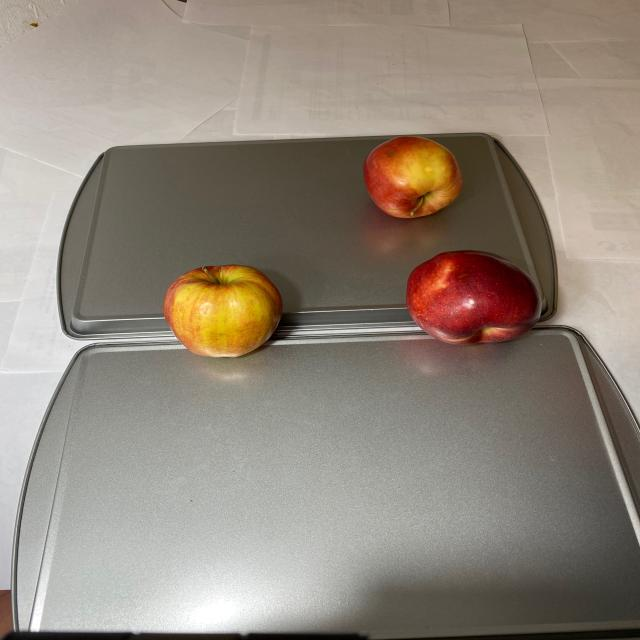apple: (357, 136, 546, 347), (160, 260, 283, 367)
